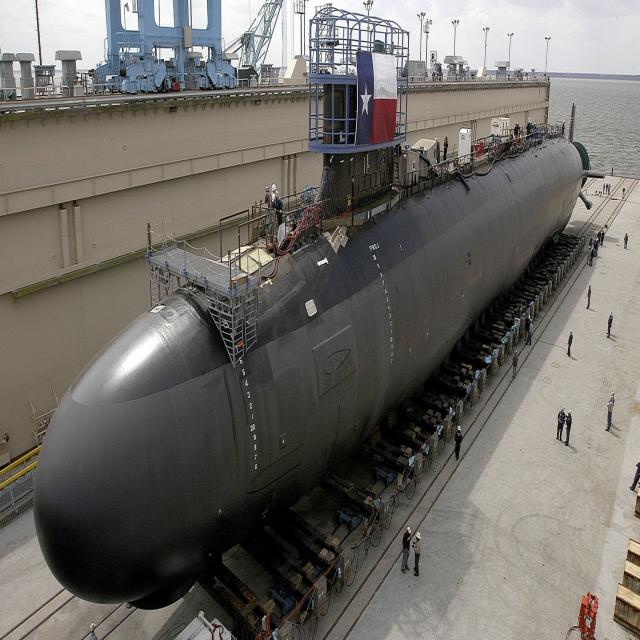submarine: (29, 12, 612, 612)
